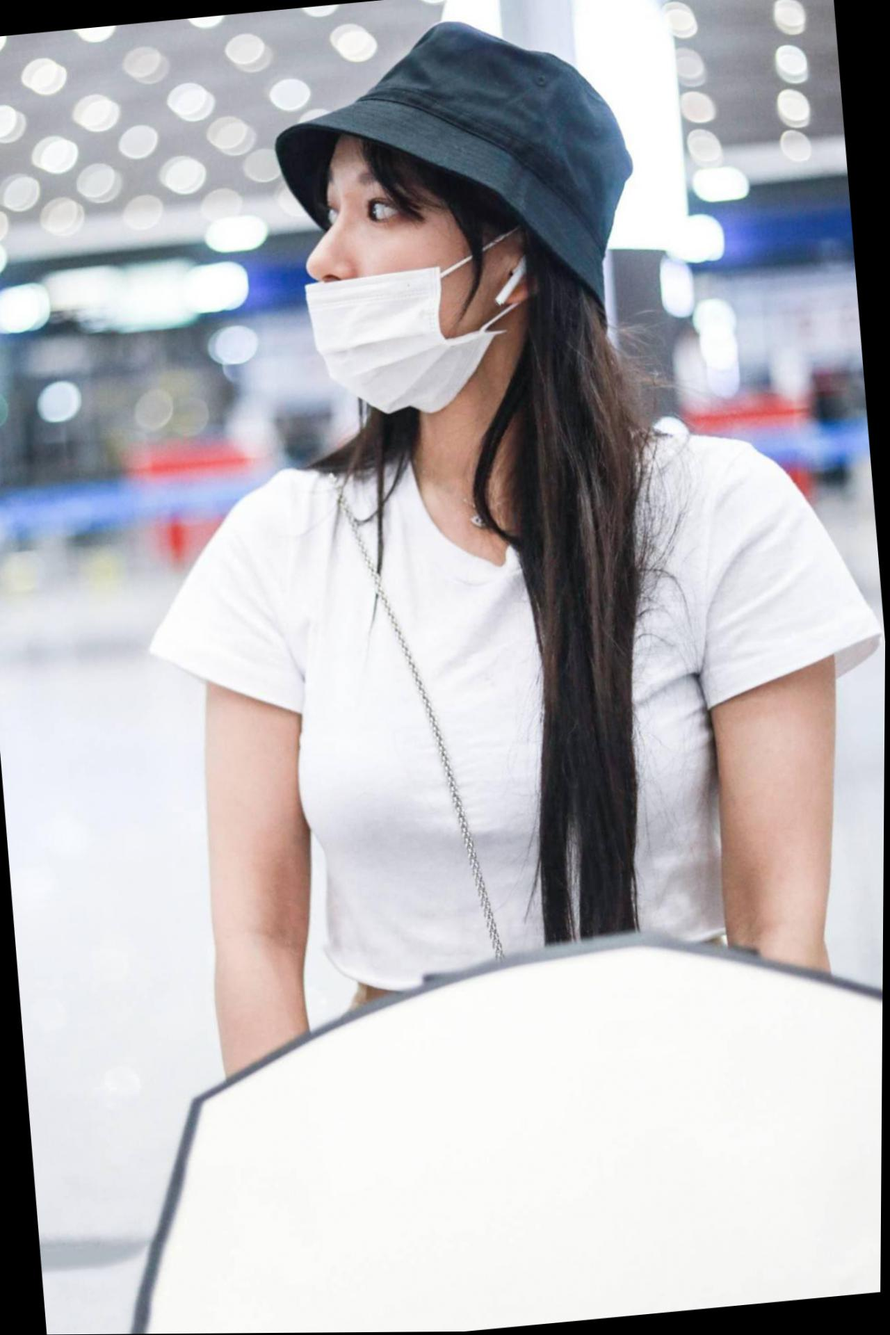WRONG: (296, 137, 490, 424)
